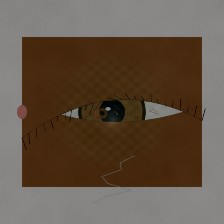foreign_body_visible: (88, 102, 116, 124)
